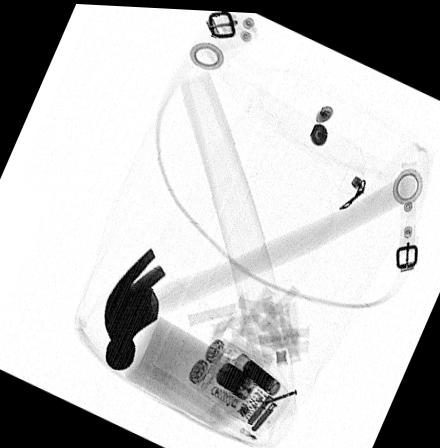Hammer: (102, 169, 414, 370)
